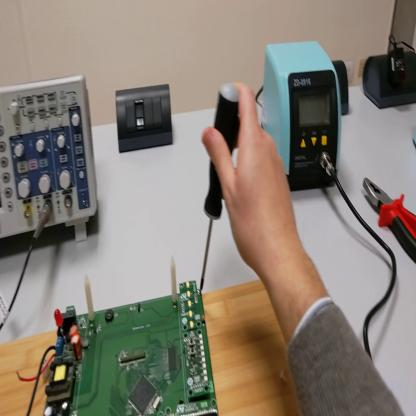hand: (203, 86, 298, 273)
low voltage board: (20, 260, 221, 416)
oscilloscope: (2, 76, 101, 246)
pliers: (364, 175, 416, 264)
screwdriver-: (202, 83, 245, 293)
socket: (366, 49, 415, 112), (332, 62, 349, 115)
welder station: (264, 42, 342, 191)
working area: (2, 283, 303, 416)
